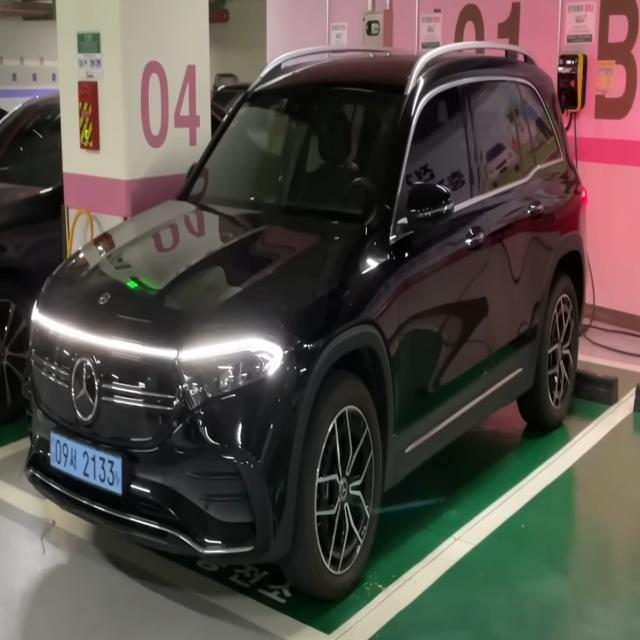car: (43, 420, 137, 508)
carev: (48, 425, 56, 472), (114, 455, 123, 495)
